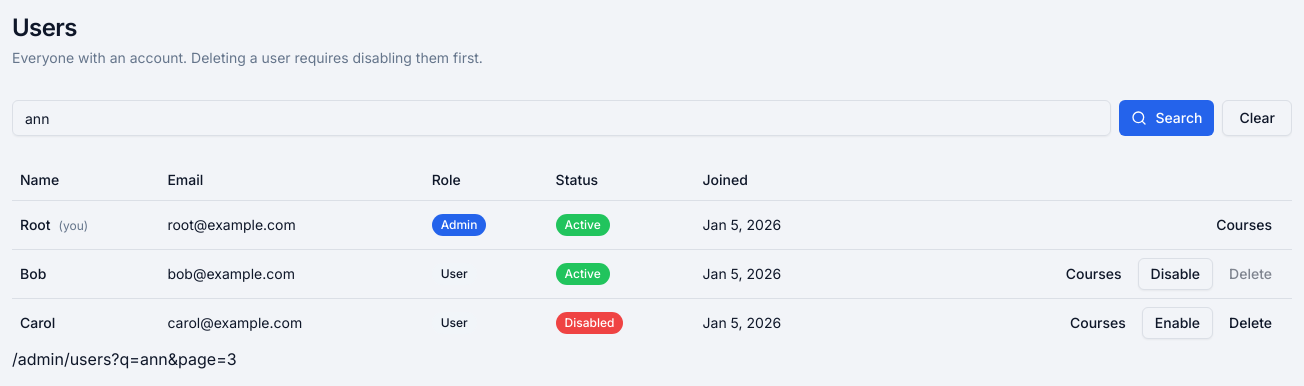
search › a new search goes back to the first page
Replace the text in the search field named "Search users" with "bob" at (562, 118), box [12, 100, 1112, 136]
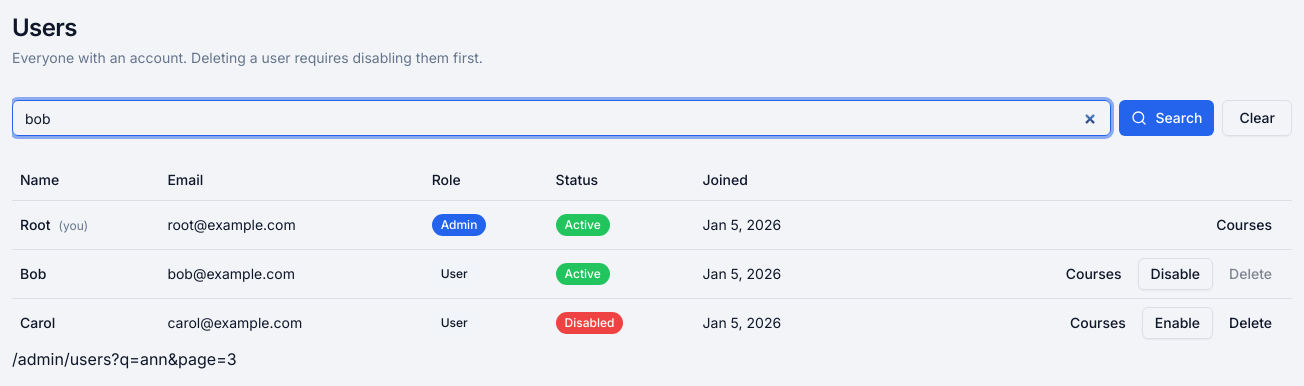
Click the button "Search" at (1167, 118), box [1120, 100, 1214, 136]
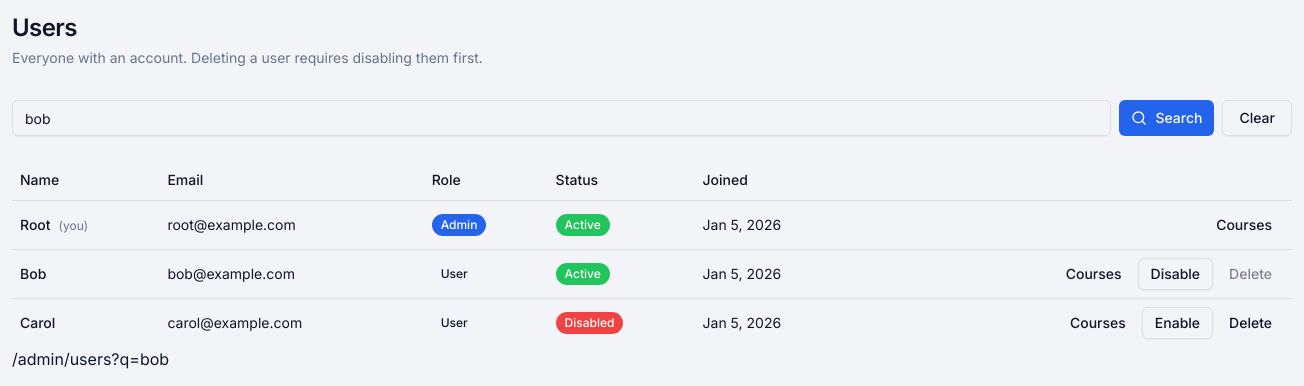
Result: the text with test id "location" reads "/admin/users?q=bob" at [12, 348, 169, 368]
